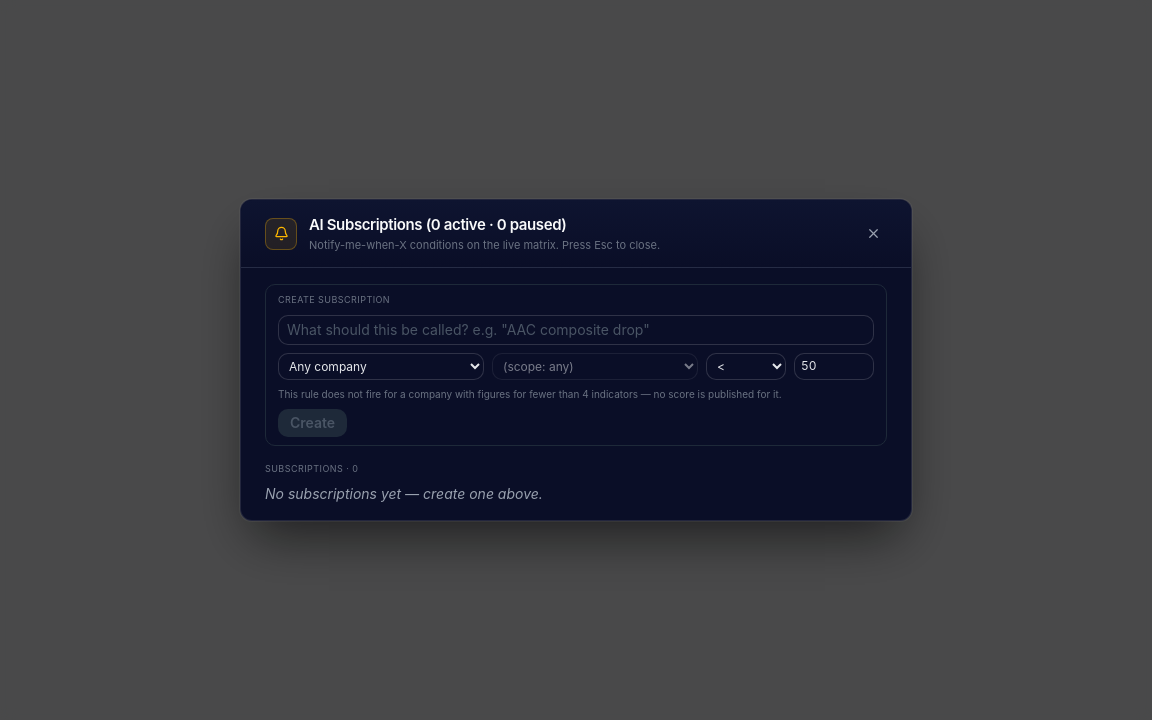
Test case: AISubscriptions (Tier-3 sub-30) › scope=any disables scope-value input
This screenshot has width=1152, height=720.
Expected: the dropdown with test id "subscriptions-scope-value" is disabled, [492,353,698,380]
Select "Specific company" in the dropdown with test id "subscriptions-scope" at coordinates (381, 366), box [278,353,484,380]
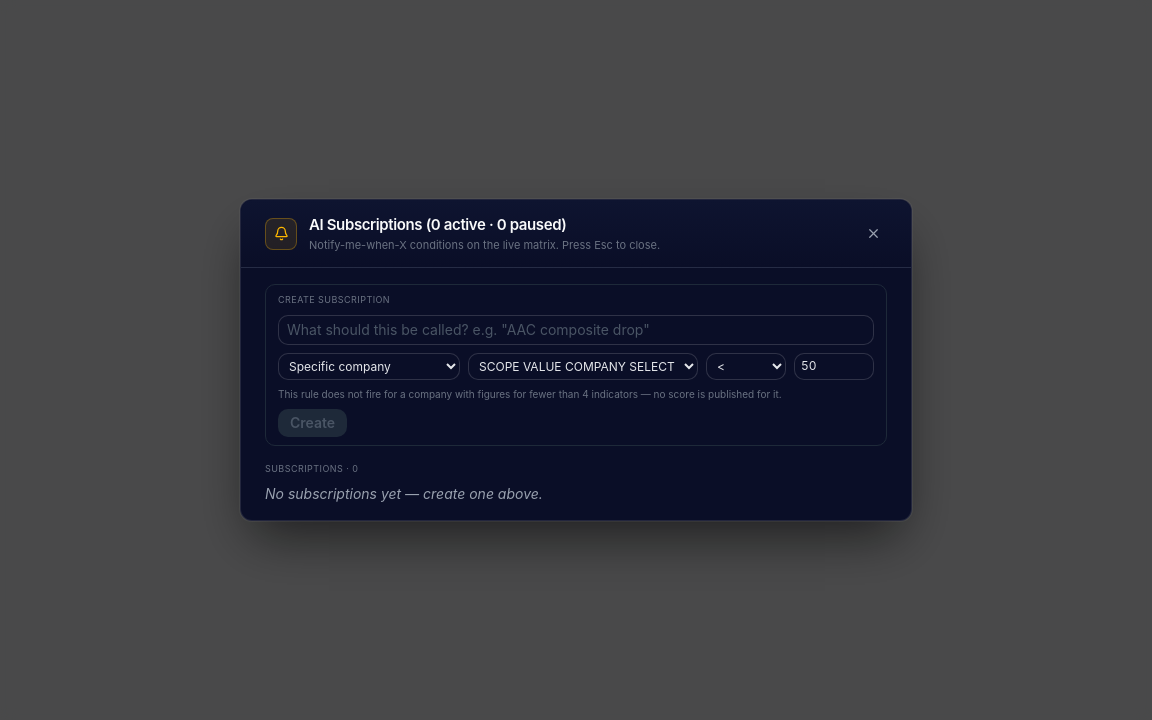
Expected: the dropdown with test id "subscriptions-scope-value" is enabled, [468,353,698,380]
